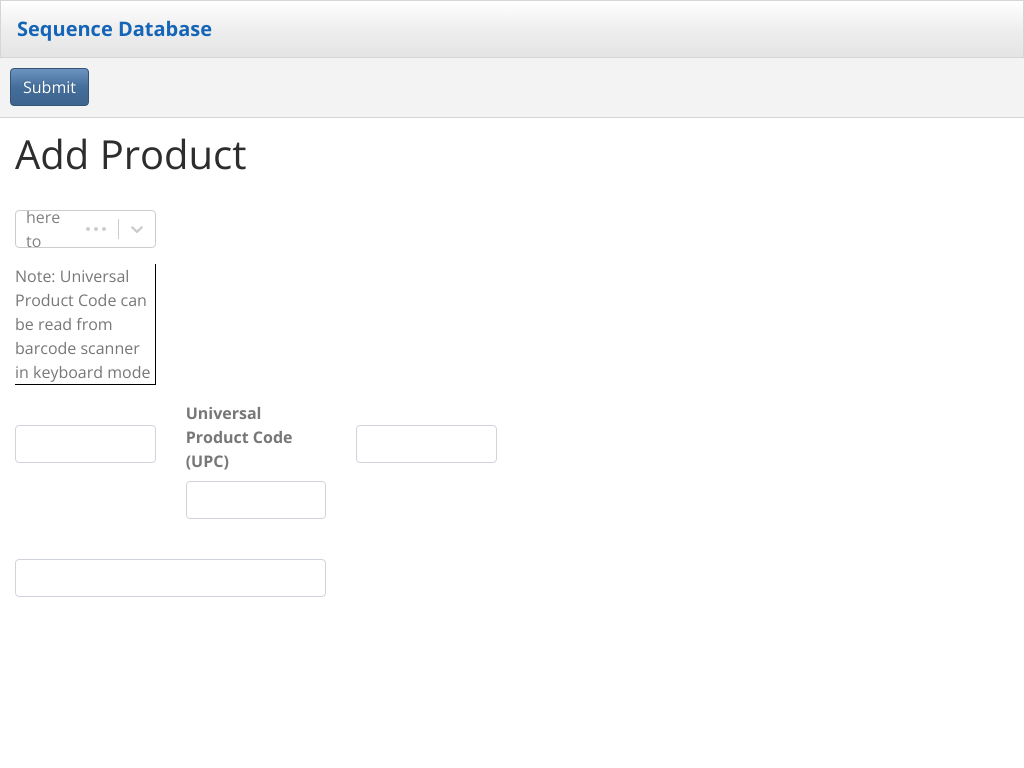
Scenario: Product edit page › Renders an error after form submit if one is returned from the back-end.
// Edit the product name.
Type "invalid name" into the 1st field. click: (85, 444)
box: [15, 425, 156, 463]
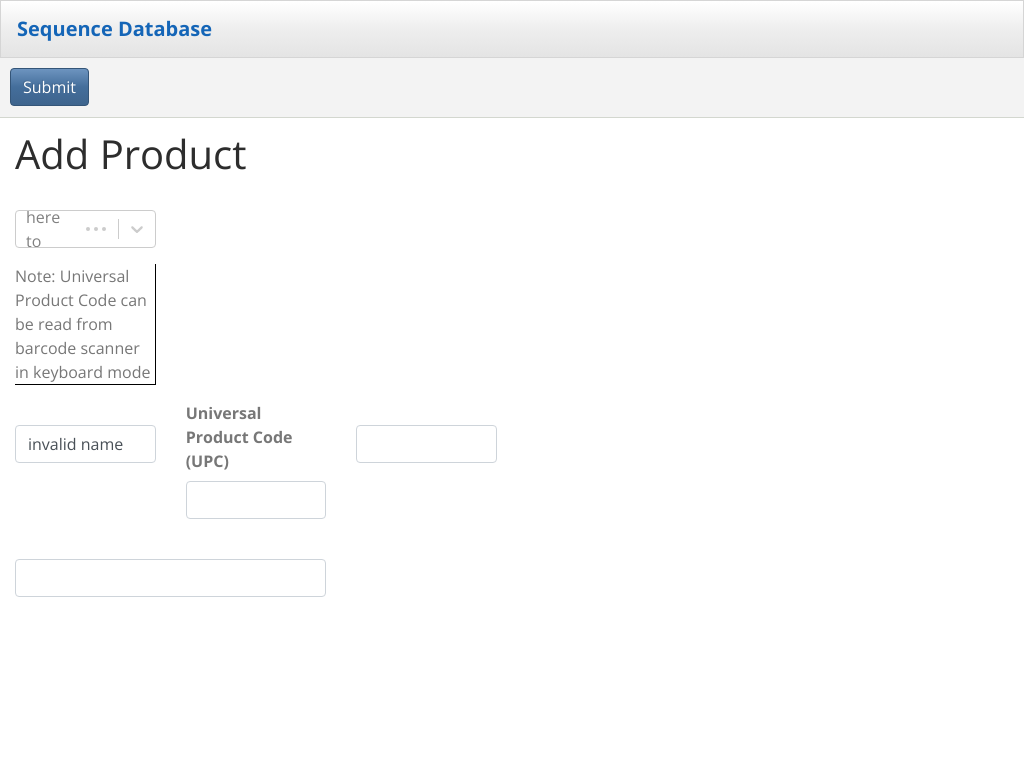
// Submit the form.
Submit the form, box [15, 210, 497, 597]
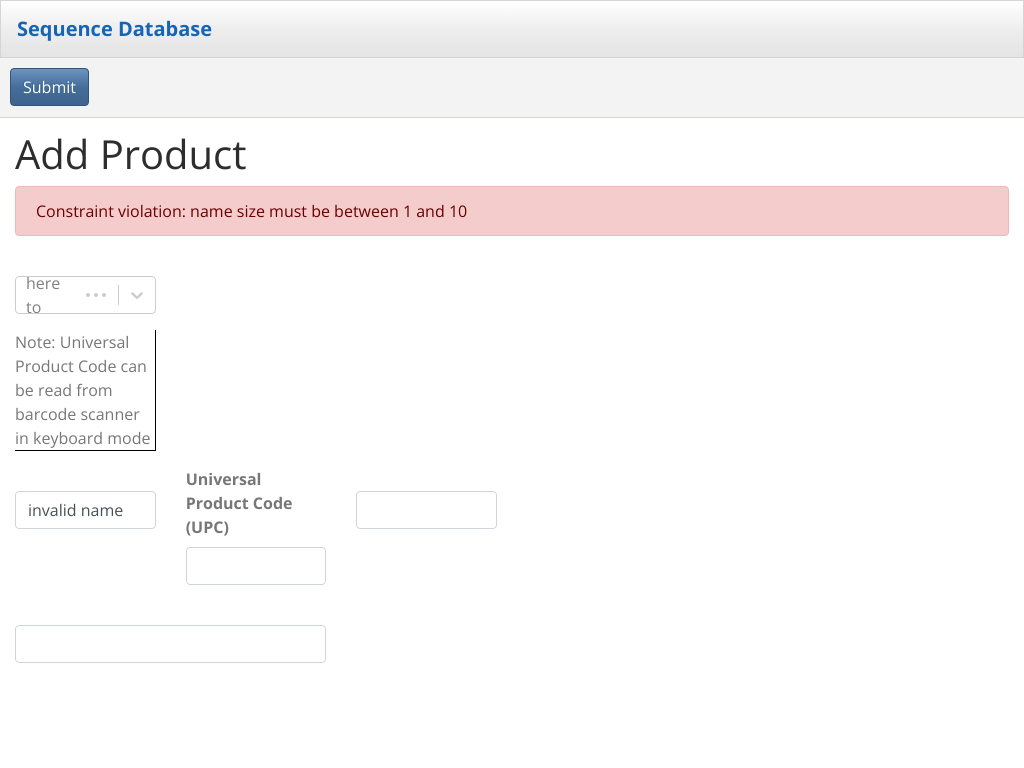
Expected: the text with class "alert-danger" reads "Constraint violation: name size must be between 1 and 10", [36, 200, 467, 222]
